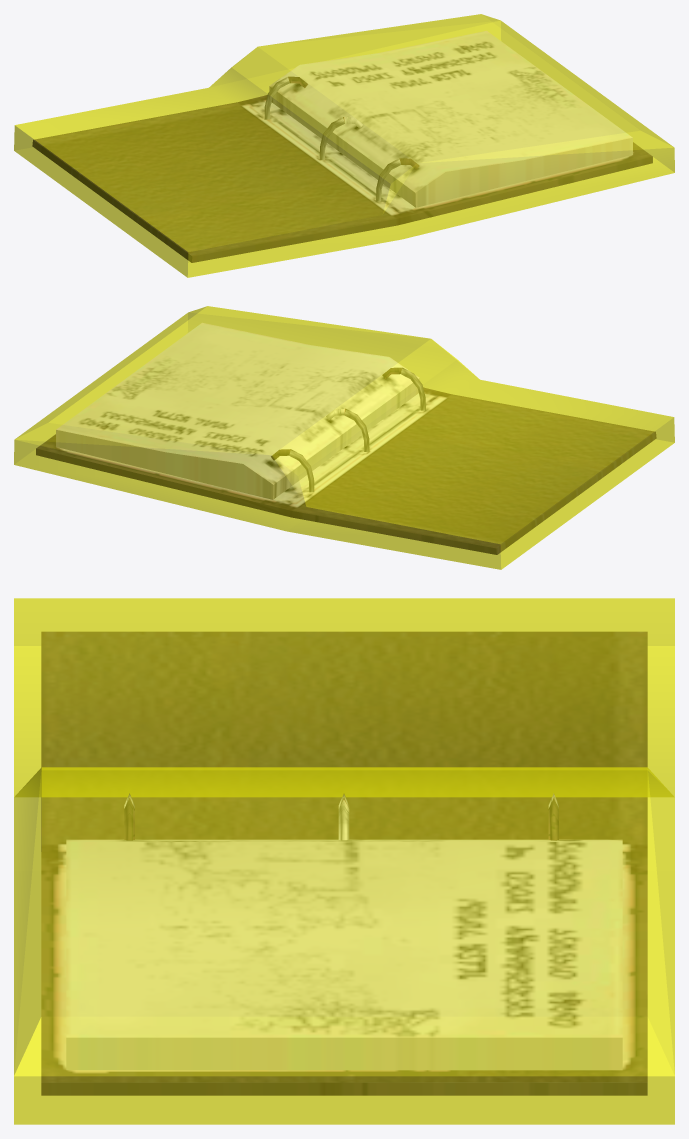
File: Mmanual.glb
The picture shows the model from 3 angles, top to bottom: view 1: azimuth 30°, elevation 25°; view 2: azimuth 150°, elevation 25°; view 3: azimuth 270°, elevation 25°; orthographic projection. The views are drawn at different scales.
Visible parts, largest first — view 1: _Mmanual; view 2: _Mmanual; view 3: _Mmanual.
Part boxes in pixels (x1,y1,x2,y2): _Mmanual: [14, 14, 674, 277]; _Mmanual: [14, 306, 674, 569]; _Mmanual: [14, 598, 674, 1124].
Size of the model in its own units: 0.5286 by 0.0679 by 0.3265.
3 materials, 3 textured.
